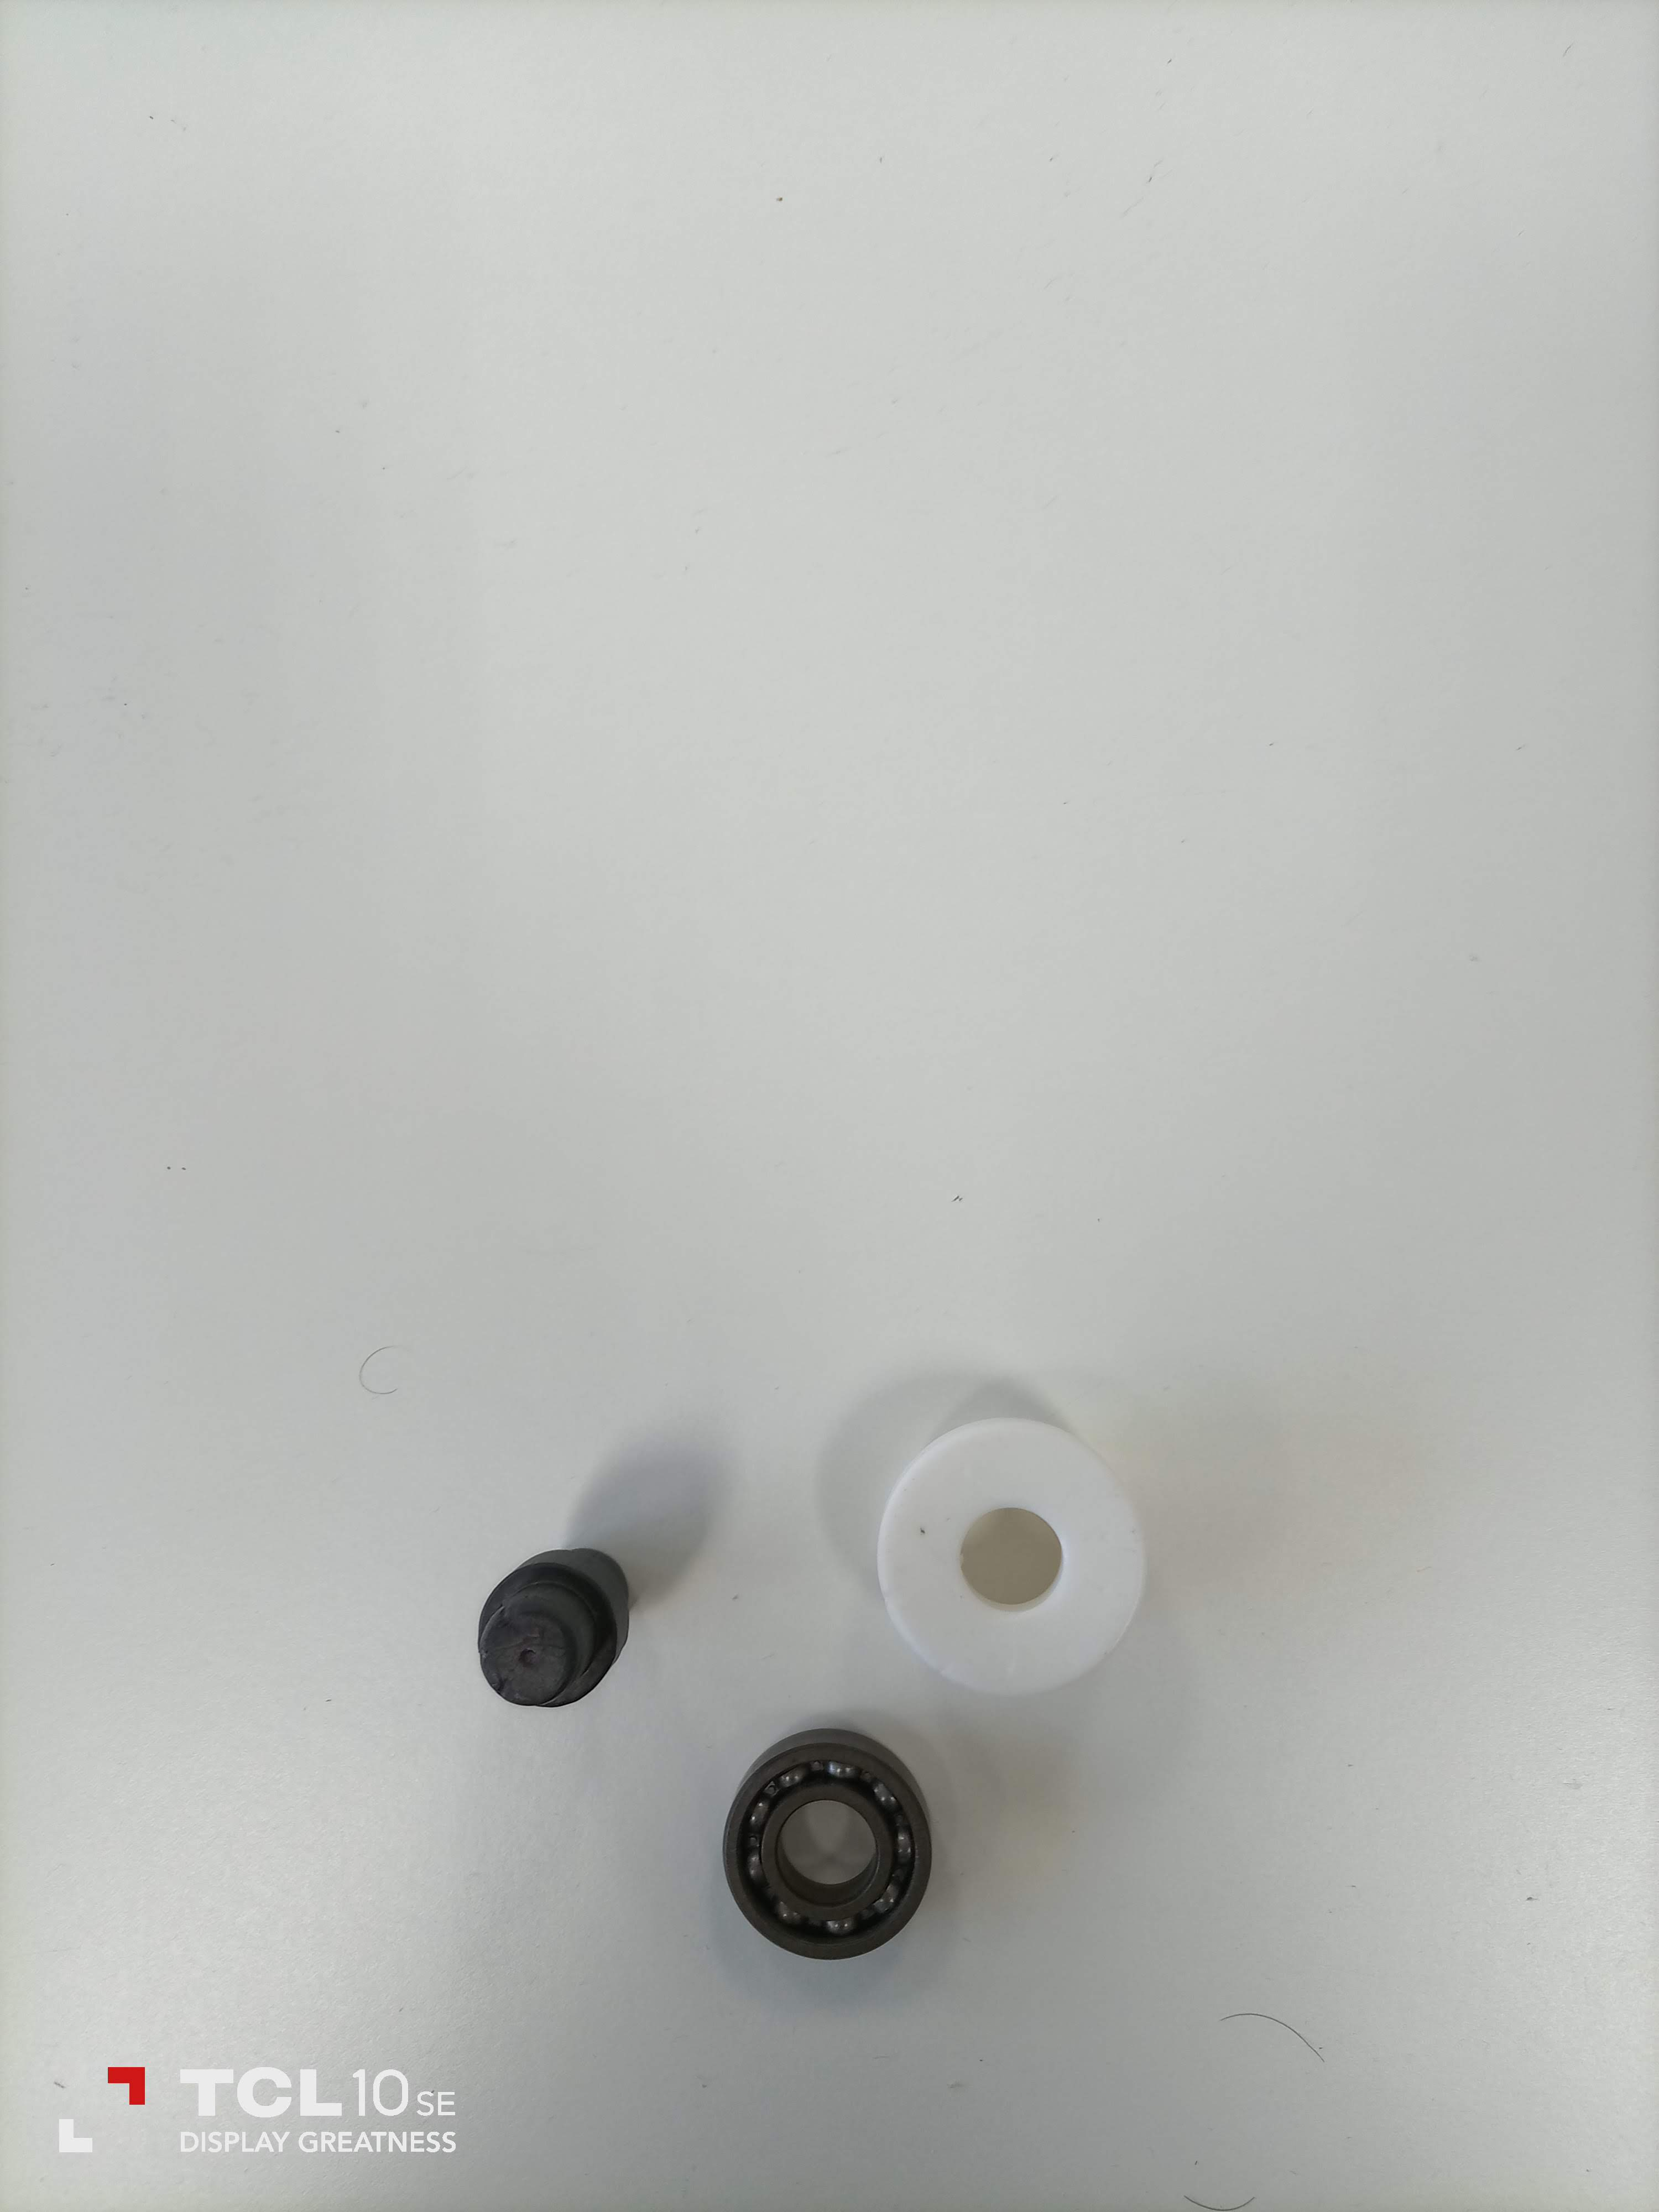Ardatza: (483, 1552, 634, 1703)
Roda: (708, 1737, 951, 1980)
Tapa: (882, 1407, 1143, 1684)
